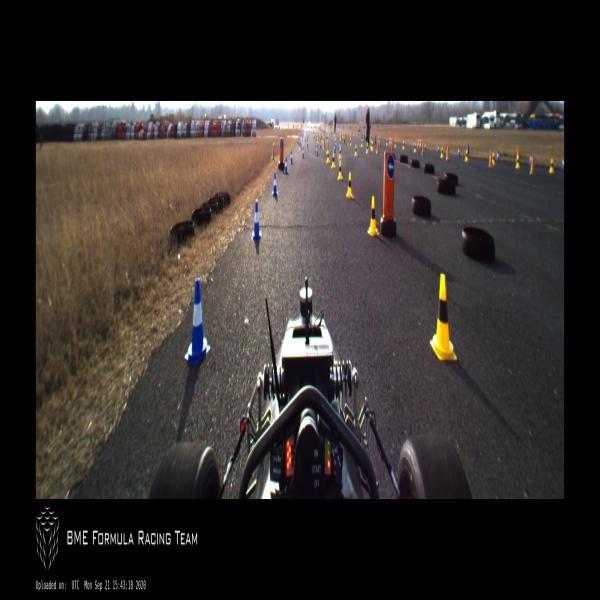blue_cone: (184, 278, 210, 364), (252, 200, 261, 240), (272, 172, 278, 196), (284, 157, 288, 174), (290, 150, 293, 164), (302, 147, 304, 159), (316, 145, 318, 156), (497, 151, 499, 162), (334, 143, 336, 153), (458, 147, 460, 157), (438, 144, 440, 153), (424, 142, 426, 150), (413, 141, 414, 147)
large_orange_cone: (419, 137, 422, 149), (390, 134, 392, 147), (418, 137, 419, 149), (389, 136, 390, 147)
yellow_cone: (430, 273, 457, 360), (367, 195, 379, 236), (346, 172, 354, 198), (338, 160, 342, 179), (549, 158, 554, 173), (516, 155, 520, 169), (326, 150, 330, 163), (332, 153, 335, 169), (492, 151, 495, 166), (465, 150, 468, 162), (355, 145, 358, 156), (366, 142, 369, 153), (441, 146, 443, 158), (339, 147, 341, 159), (349, 138, 352, 146), (394, 139, 397, 147), (402, 141, 404, 150), (414, 143, 416, 152), (361, 139, 363, 147), (370, 140, 372, 148), (386, 138, 388, 146), (372, 141, 373, 150)
